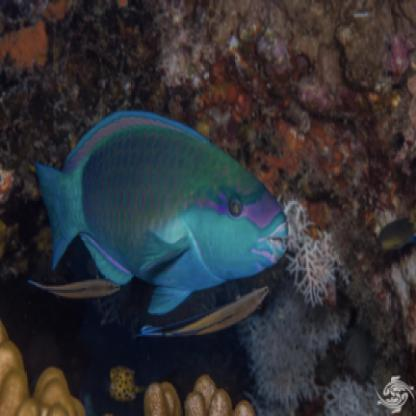Bio: (32, 101, 294, 316)
